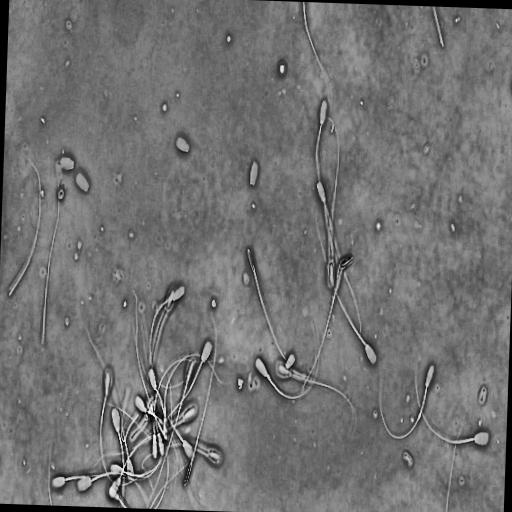coiled-tail: (146, 409, 166, 436)
dirt-particles: (277, 58, 288, 76), (56, 186, 64, 201)
folded-tail: (303, 269, 342, 389), (155, 353, 221, 419)
loose-head: (173, 131, 191, 156), (73, 169, 90, 195), (55, 152, 76, 173), (247, 156, 259, 186), (283, 350, 296, 371)
loose-tail: (6, 156, 43, 299), (39, 179, 61, 350), (300, 1, 333, 101), (443, 418, 467, 512), (431, 6, 445, 49)
normal: (314, 205, 379, 366), (83, 321, 135, 486), (314, 180, 362, 345), (301, 253, 354, 397), (181, 300, 220, 488), (97, 364, 154, 491), (245, 243, 298, 378), (144, 345, 222, 435), (149, 336, 213, 437), (413, 372, 492, 448), (311, 107, 343, 291), (141, 354, 195, 462), (274, 358, 357, 427), (253, 320, 322, 400), (145, 281, 190, 391), (106, 431, 178, 499), (378, 360, 435, 442), (313, 94, 338, 250), (50, 470, 148, 503), (134, 395, 168, 442)
proximal-droplet: (266, 373, 270, 380)
